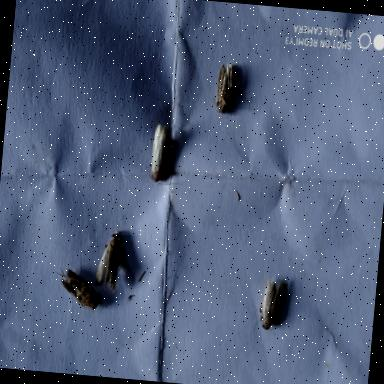pbw: (90, 226, 140, 296), (50, 264, 106, 320), (142, 118, 179, 192), (206, 54, 242, 122), (255, 272, 290, 338)
